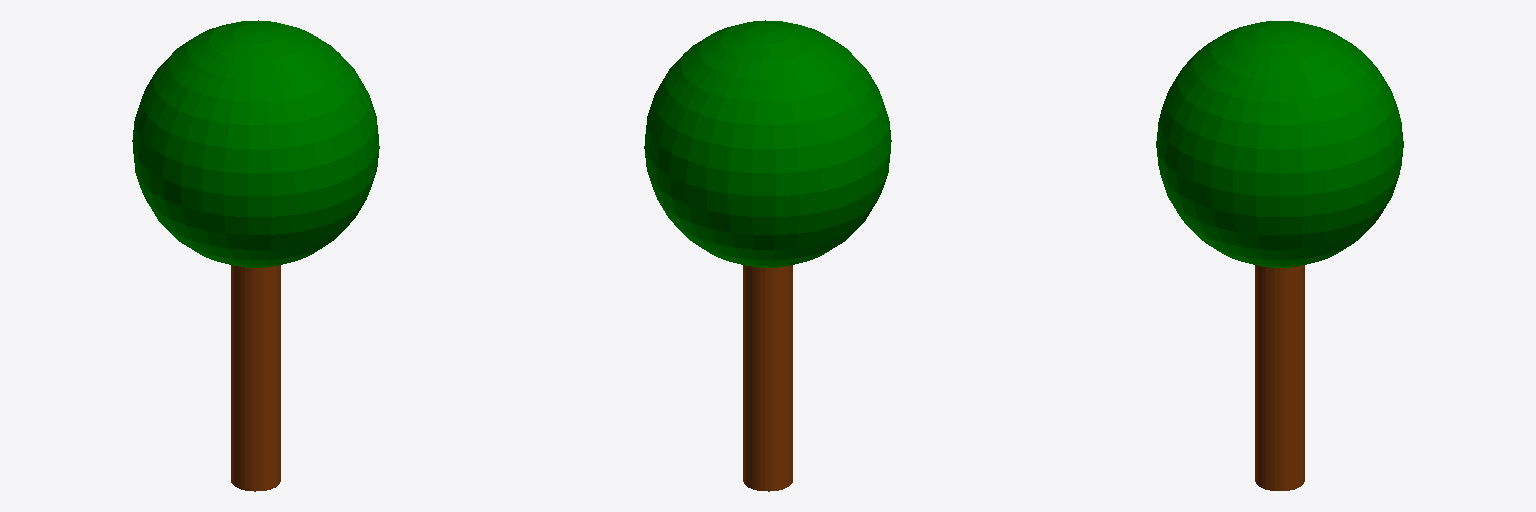
robot.urdf — tree:
<?xml version="1.0"?>
<robot name="tree">

<link name="world"/>

  <!-- Define the trunk of the tree -->
  <link name="trunk">
    <inertial>
      <mass value="5.0"/> <!-- Set the mass of the trunk in kg -->
      <inertia ixx="0.01" ixy="0.0" ixz="0.0" iyy="0.01" iyz="0.0" izz="0.01"/>
      <origin xyz="0 0 0.5"/> <!-- Center of mass -->
    </inertial>
    <visual>
      <geometry>
        <cylinder radius="0.1" length="1.0"/>
      </geometry>
      <material name="brown">
        <color rgba="0.545 0.271 0.075 1"/> <!-- Brown color for the trunk -->
      </material>
    </visual>
    <collision>
      <geometry>
        <cylinder radius="0.1" length="1.0"/>
      </geometry>
    </collision>
  </link>

  <joint name="fixed_to_ground" type="fixed">
    <parent link="world"/>
    <child link="trunk"/>
  </joint>

  <!-- Define the canopy of the tree -->
  <link name="canopy">
    <inertial>
      <mass value="2.0"/> <!-- Set the mass of the canopy in kg -->
      <inertia ixx="0.005" ixy="0.0" ixz="0.0" iyy="0.005" iyz="0.0" izz="0.005"/>
      <origin xyz="0 0 1.0"/> <!-- Center of mass -->
    </inertial>
    <visual>
      <geometry>
        <sphere radius="0.5"/>
      </geometry>
      <material name="green">
        <color rgba="0.0 0.5 0.0 1"/> <!-- Green color for the canopy -->
      </material>
    </visual>
    <collision>
      <geometry>
        <sphere radius="0.5"/>
      </geometry>
    </collision>
  </link>

  <!-- Define the joint between the trunk and the canopy -->
  <joint name="trunk_to_canopy" type="fixed">
    <parent link="trunk"/>
    <child link="canopy"/>
    <origin xyz="0 0 1.0"/> <!-- Position the canopy above the trunk -->
  </joint>

</robot>

--- Render facts (derived) ---
3 views of the same robot in one strip: view 1: azimuth 30°, elevation 25°; view 2: azimuth 150°, elevation 25°; view 3: azimuth 270°, elevation 25° (orthographic).
Model tree with 3 links and 2 joints (2 fixed), rooted at world, posed every joint at zero.
Visible links, largest first — view 1: canopy, trunk; view 2: canopy, trunk; view 3: canopy, trunk.
Link boxes in pixels (<box>): canopy: <box>132,20,379,267</box>; trunk: <box>231,265,280,491</box>; canopy: <box>644,20,891,267</box>; trunk: <box>743,265,792,491</box>; canopy: <box>1156,21,1403,267</box>; trunk: <box>1255,265,1304,490</box>.
Bounding box of the posed robot: 1 × 1 × 2 m (x, y, z).
Geometry: primitives only (box / cylinder / sphere), no mesh files.